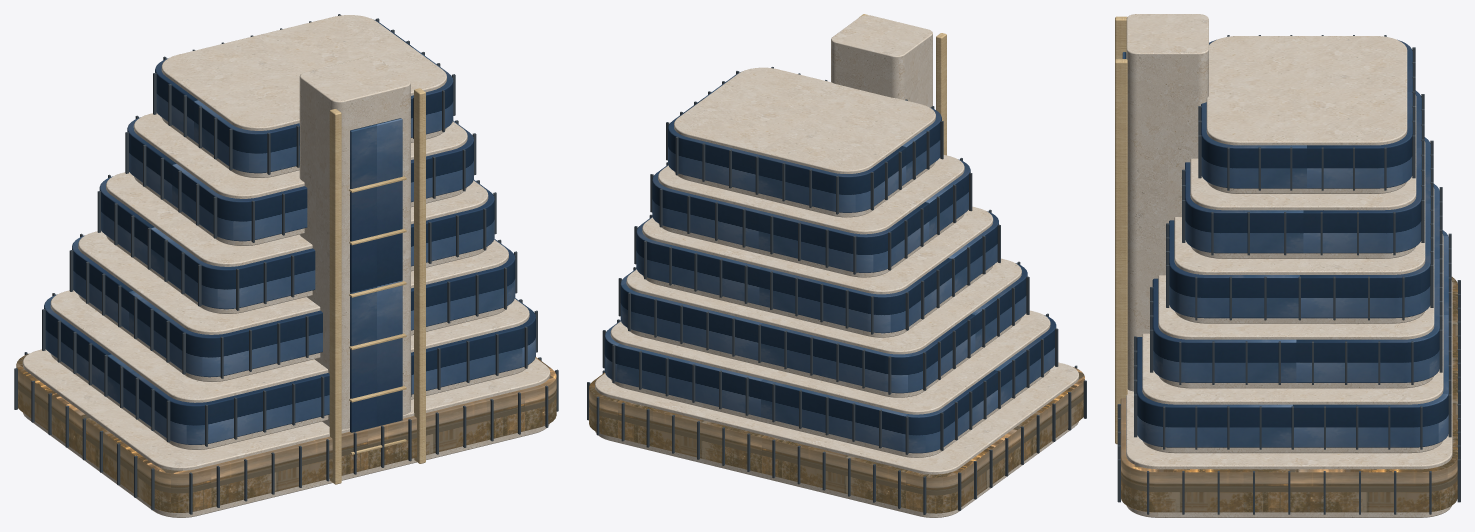
Rendered from body.glb.
The picture shows the model from 3 angles, left to right: view 1: azimuth 30°, elevation 25°; view 2: azimuth 150°, elevation 25°; view 3: azimuth 270°, elevation 25°; orthographic projection. The views are drawn at different scales.
Visible parts, largest first — view 1: body; view 2: body; view 3: body.
Boxes of the visible parts, box(x1,y1,x2,y2) form: body: box(14, 14, 558, 517); body: box(587, 14, 1086, 517); body: box(1115, 14, 1460, 517).
Size of the model in its own units: 6.17 by 5.5 by 4.41.
Materials: 5 (4 with a texture image).
